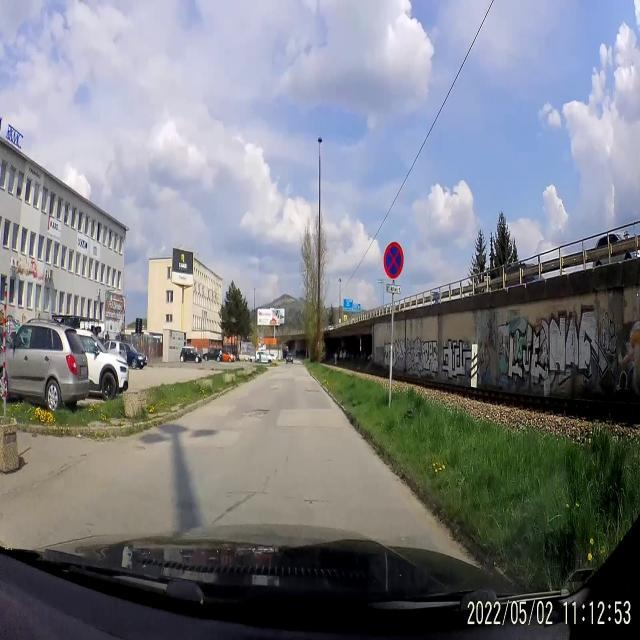Pothole: (248, 404, 270, 422)
